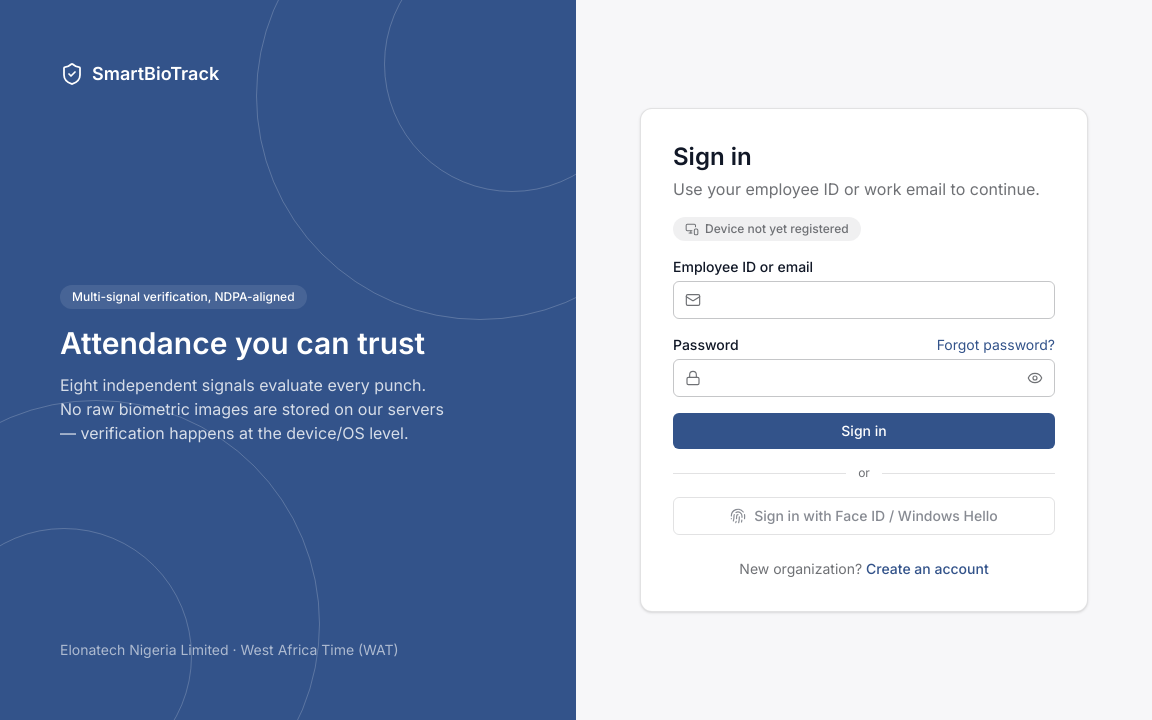
validation before anything is sent › will not submit an empty identifier
This screenshot has width=1152, height=720.
Type "Passw0rd!" into the password field labelled "Password" at {"x": 864, "y": 378}, box [673,359,1055,397]
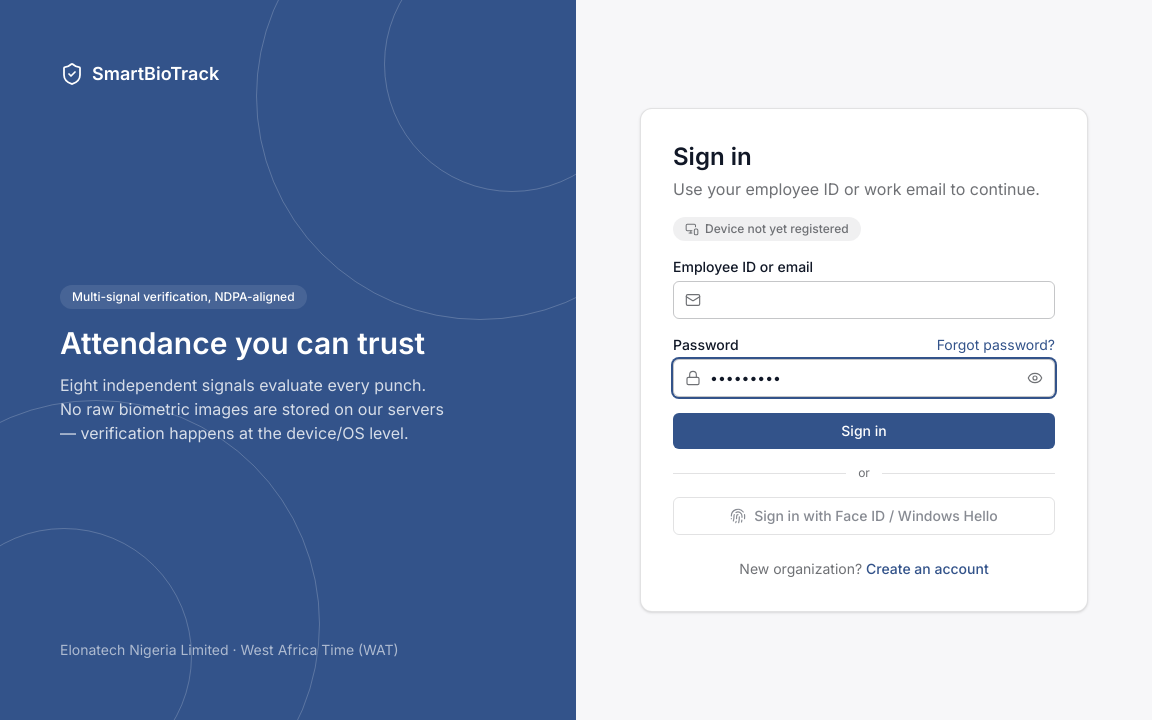
Click the button "Sign in" at {"x": 864, "y": 431}, box [673,413,1055,449]
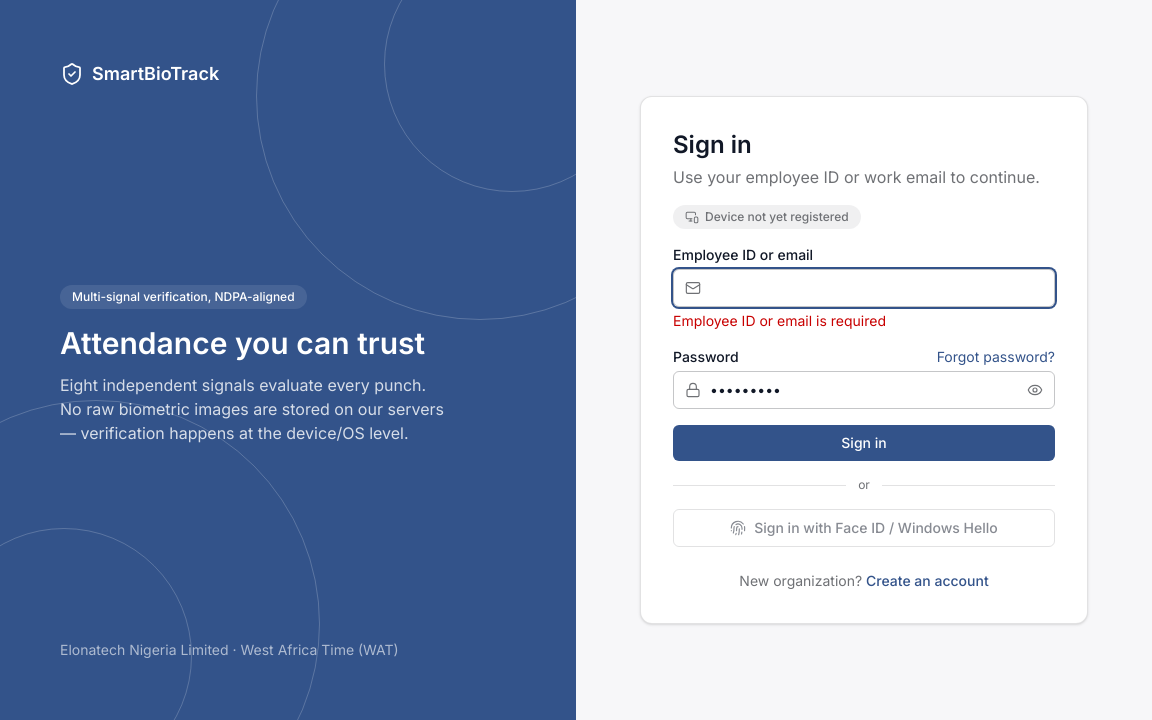
Expected: the text "Employee ID or email is required" is shown, [673,312,886,329]
